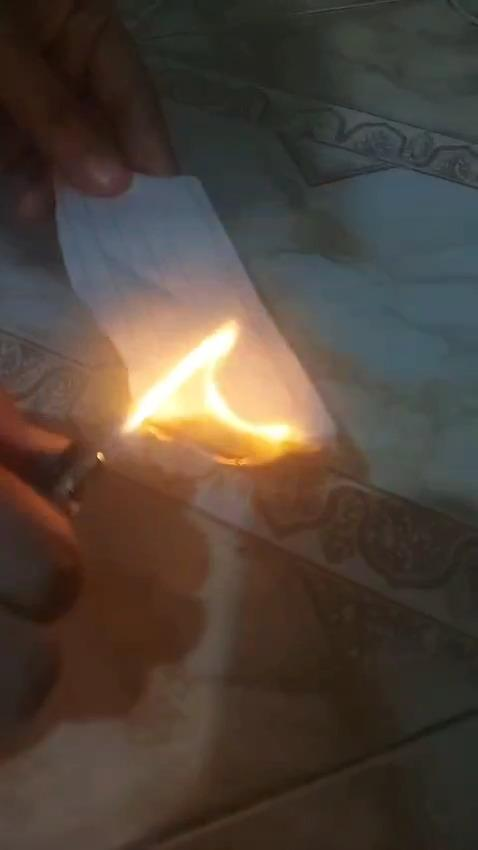Fire: (89, 309, 327, 472)
